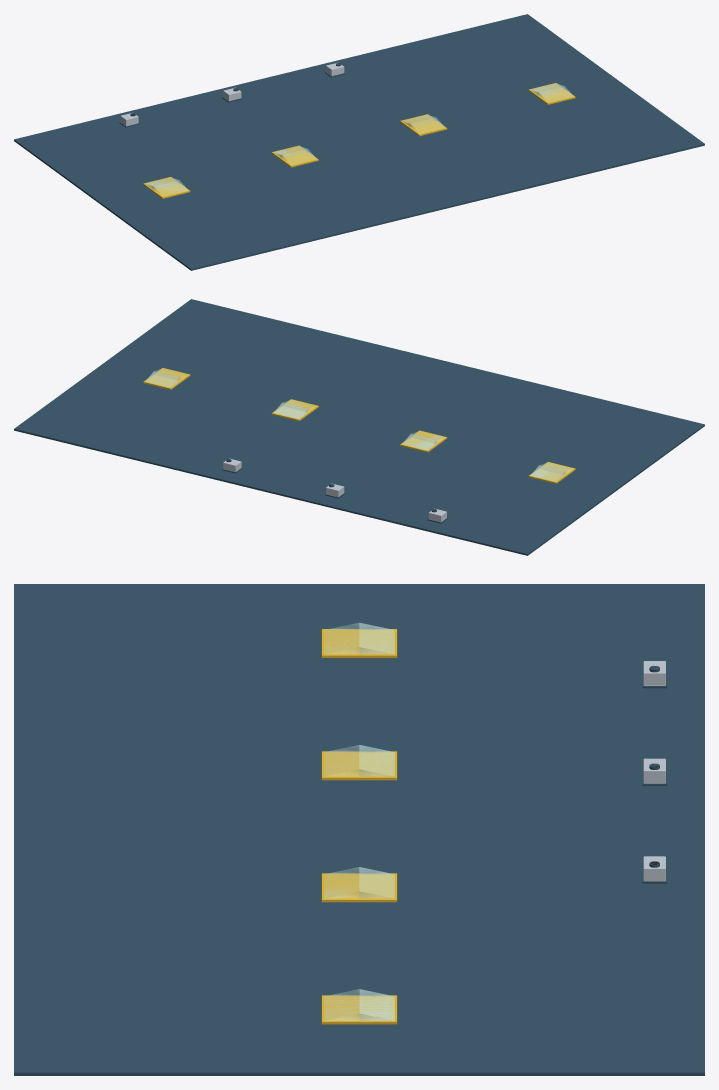
File: CM_Shell_Roof_LuxuryCenter.fbx
3 views of the same model, one above another, from view 1: azimuth 30°, elevation 25°; view 2: azimuth 150°, elevation 25°; view 3: azimuth 270°, elevation 25° (orthographic). The views are drawn at different scales.
Visible parts, largest first — view 1: Roof, Glass; view 2: Roof, Glass; view 3: Roof, Glass.
Boxes of the visible parts, <box> form: Roof: <box>14,14,704,270</box>; Glass: <box>145,83,573,196</box>; Roof: <box>14,299,704,555</box>; Glass: <box>145,368,573,481</box>; Roof: <box>14,584,704,1075</box>; Glass: <box>324,622,394,1020</box>.
Bounding box in the file's own units: 184 × 110 × 3.6.
2 materials, 2 textured.
